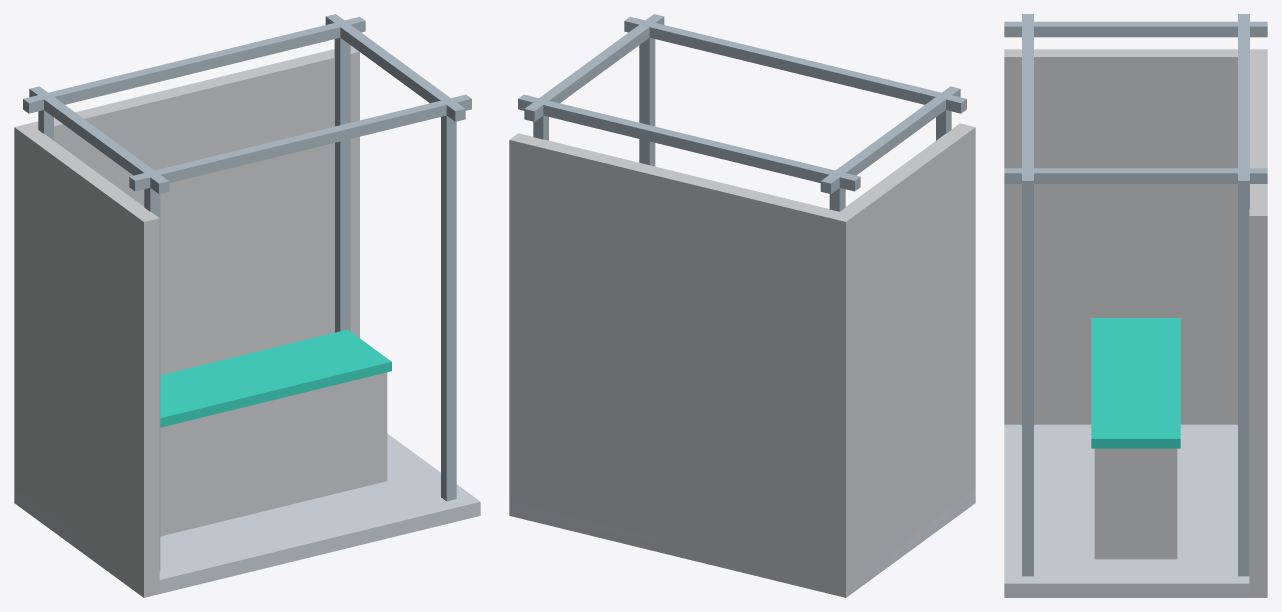
The picture shows the model from 3 angles, left to right: view 1: azimuth 30°, elevation 25°; view 2: azimuth 150°, elevation 25°; view 3: azimuth 270°, elevation 25°; orthographic projection.
Visible parts, largest first — view 1: Exhibition Booth Concept; view 2: Exhibition Booth Concept; view 3: Exhibition Booth Concept.
Part boxes in pixels (x1,y1,x2,y2): Exhibition Booth Concept: (14,14,480,597); Exhibition Booth Concept: (509,14,975,597); Exhibition Booth Concept: (1004,14,1267,597).
Bounding box in the file's own units: 3 × 3.49 × 2.
